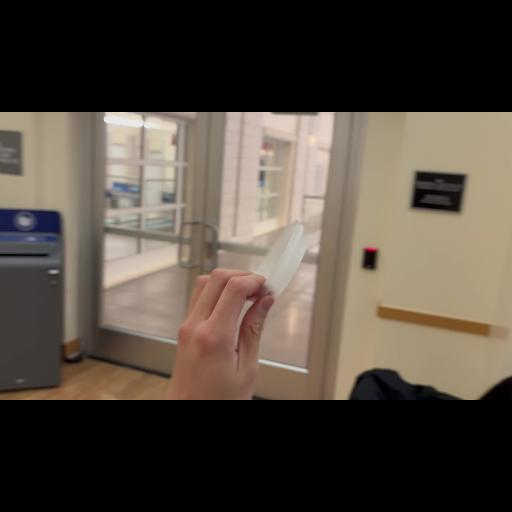lp_cup_lids: (236, 216, 316, 326)
